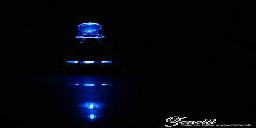LED: (73, 18, 108, 66)
